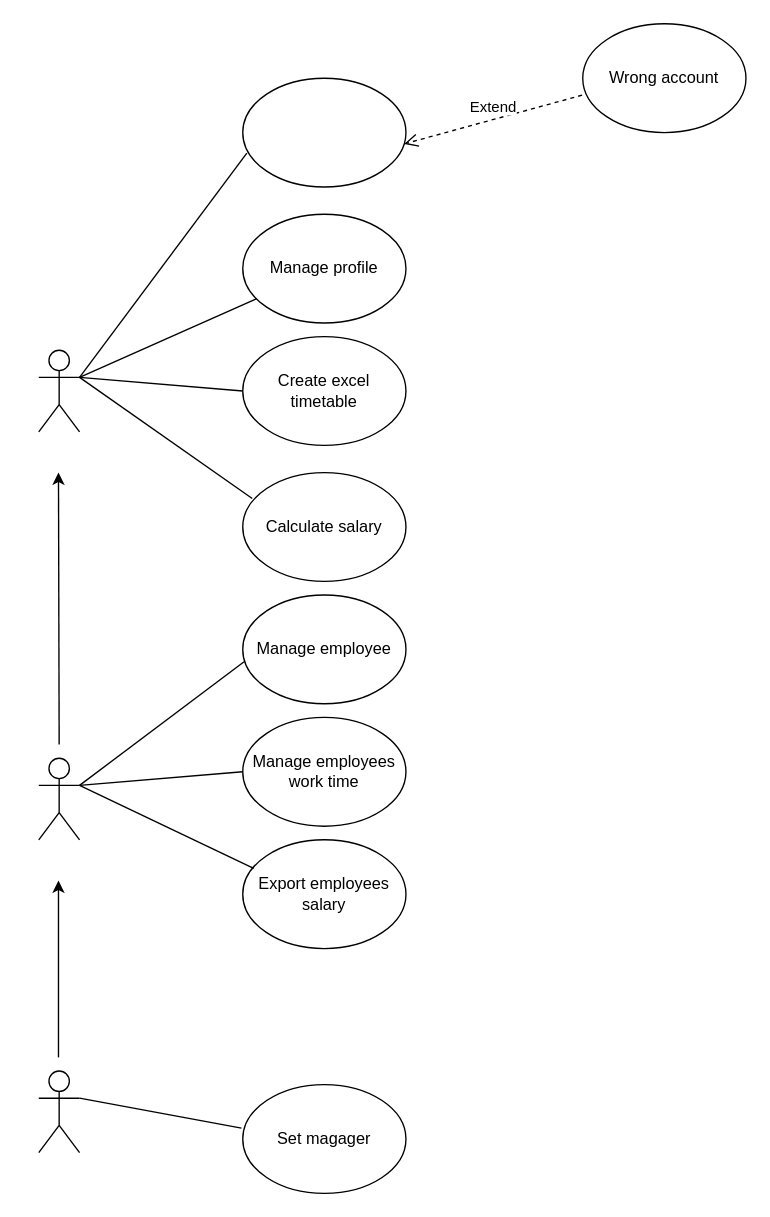
The diagram is 770 pixels wide and 1217 high, and some of its shapes have lost their labels. Each missing label, with the centre of its shape:
"Admin" goes at point 58,1111.
"Authentication" goes at point 323,132.
"Employee" goes at point 58,390.
"Manager" goes at point 58,798.
